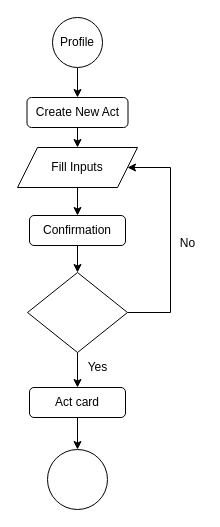
Some shapes in this 220 by 527 pixel diagram are drawn without their labels. The shapes that lost their labels are listed below. From the top down, each one's centre as x and y in pixels, then its label:
At point (77, 312): "Data ok?".
At point (77, 479): "Act created".
